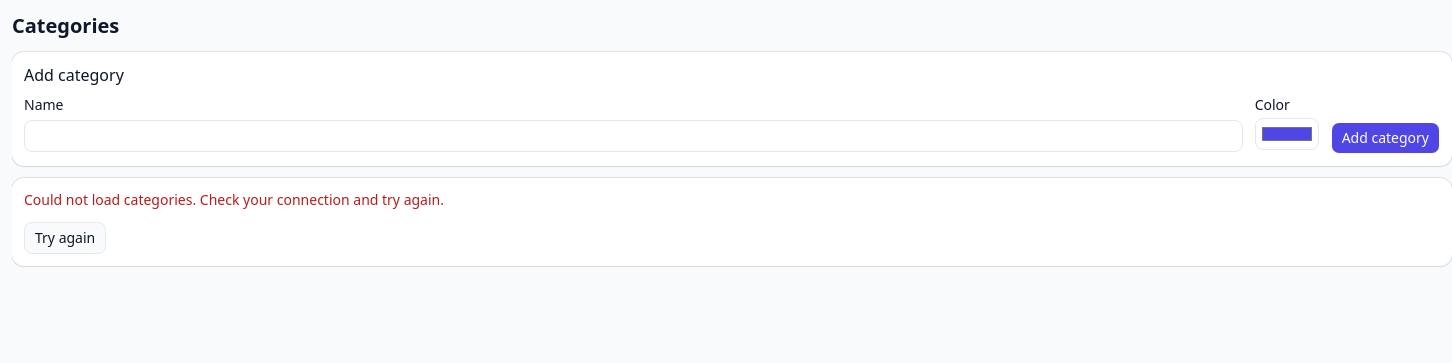
CategoriesPage › shows an error with retry when loading fails
This screenshot has width=1452, height=363.
Check: the text "Could not load categories. Check your connection and try again." is shown, box [24,190,444,210]
Click the button "Try again" at coordinates (65, 238), box [24,222,106,254]
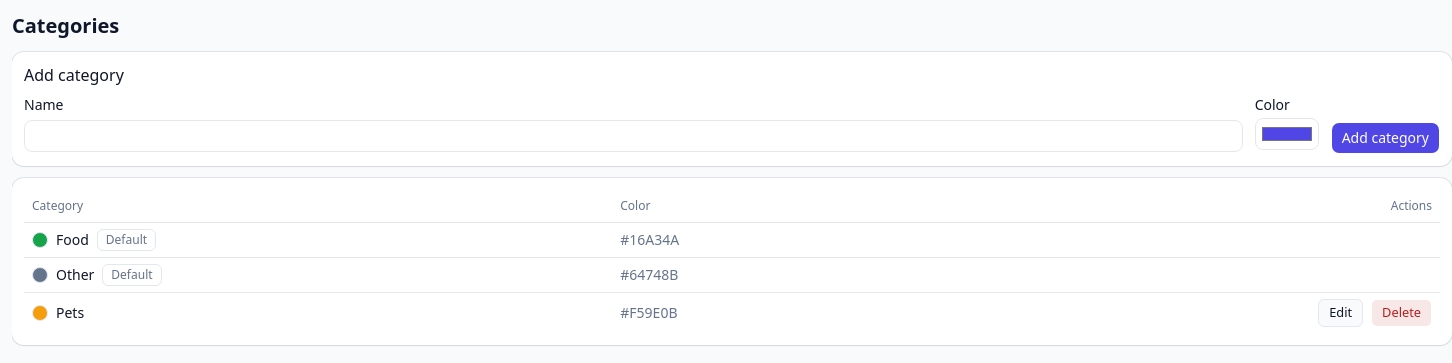
Check: the text "Pets" is shown, box [56,302,84,322]
